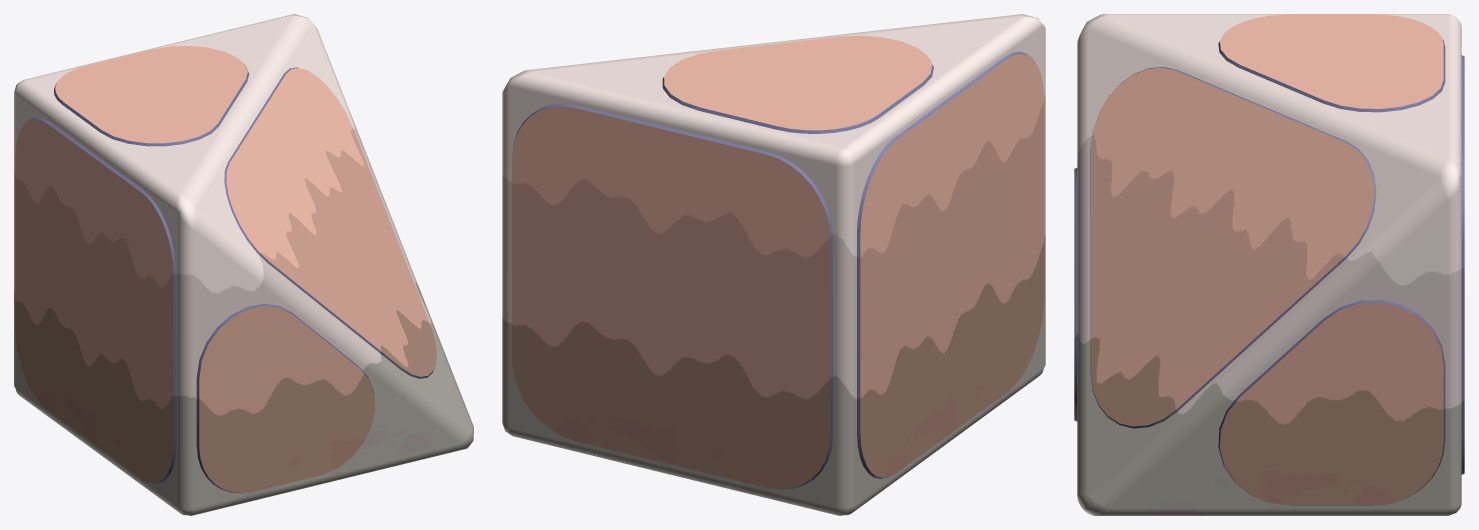
The model's file is R4B_InnerCorner.glb.
3 renders of one model, left to right at view 1: azimuth 30°, elevation 25°; view 2: azimuth 150°, elevation 25°; view 3: azimuth 270°, elevation 25°, orthographic. The views are drawn at different scales.
Parts seen in each view (by area): view 1: R4B_InnerCorner; view 2: R4B_InnerCorner; view 3: R4B_InnerCorner.
Boxes of the visible parts, x1,y1,x2,y2 form: R4B_InnerCorner: (14,14,473,515); R4B_InnerCorner: (502,14,1045,515); R4B_InnerCorner: (1074,14,1464,515).
Bounding box in the file's own units: 0.52 × 0.52 × 0.52.
3 materials, 3 textured.
